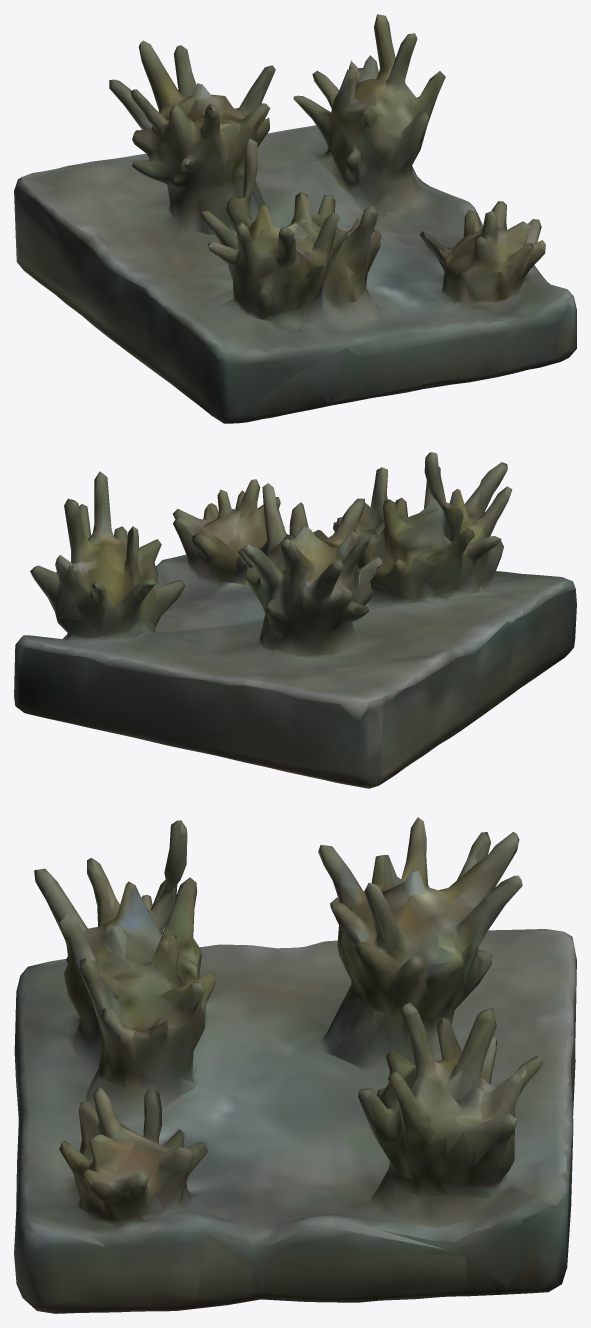
The model's file is m28_lodo_ouricos_b.glb.
3 renders of one model, top to bottom at view 1: azimuth 30°, elevation 25°; view 2: azimuth 150°, elevation 25°; view 3: azimuth 270°, elevation 25°, orthographic. The views are drawn at different scales.
Parts seen in each view (by area): view 1: m28_lodo_ouricos_b; view 2: m28_lodo_ouricos_b; view 3: m28_lodo_ouricos_b.
Boxes of the visible parts, <box> form: m28_lodo_ouricos_b: <box>14,14,576,423</box>; m28_lodo_ouricos_b: <box>14,452,576,788</box>; m28_lodo_ouricos_b: <box>14,817,576,1313</box>.
Size of the model in its own units: 0.9794 by 0.6116 by 0.9685.
1 material, 1 textured.
